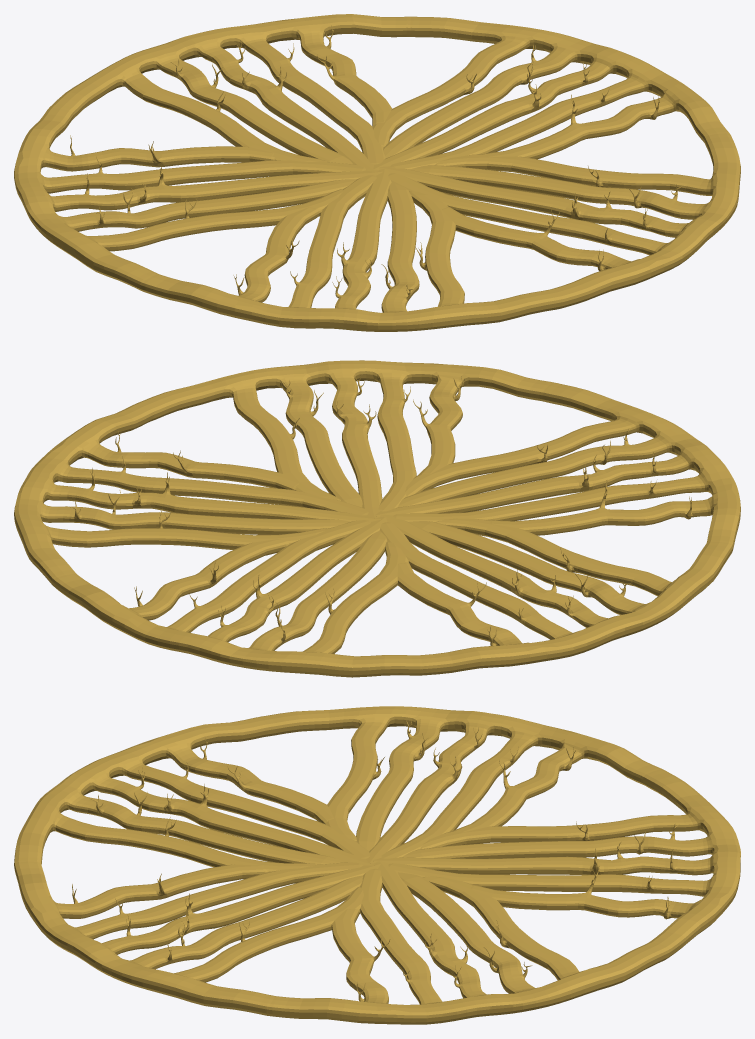
Rendered from vetve_do_stredu_all5.fbx.
3 renders of one model, top to bottom at view 1: azimuth 30°, elevation 25°; view 2: azimuth 150°, elevation 25°; view 3: azimuth 270°, elevation 25°, orthographic.
Parts seen in each view (by area): view 1: parietal.002, parietal.004, parietal.001, parietal, parietal.003; view 2: parietal.001, parietal.003, parietal.002, parietal, parietal.004; view 3: parietal, parietal.004, parietal.003, parietal.001, parietal.002.
Part boxes in pixels (x1,y1,x2,y2): parietal.002: [14, 108, 382, 289]; parietal.004: [379, 133, 740, 309]; parietal.001: [372, 16, 729, 169]; parietal: [49, 14, 410, 171]; parietal.003: [137, 169, 563, 331]; parietal.001: [14, 404, 380, 585]; parietal.003: [375, 382, 740, 551]; parietal.002: [379, 514, 732, 675]; parietal: [51, 516, 422, 677]; parietal.004: [136, 360, 553, 518]; parietal: [373, 769, 740, 961]; parietal.004: [14, 861, 380, 1014]; parietal.003: [14, 717, 375, 871]; parietal.001: [261, 861, 669, 1024]; parietal.002: [259, 706, 662, 863].
Size of the model in its own units: 54.99 by 2.83 by 54.83.
